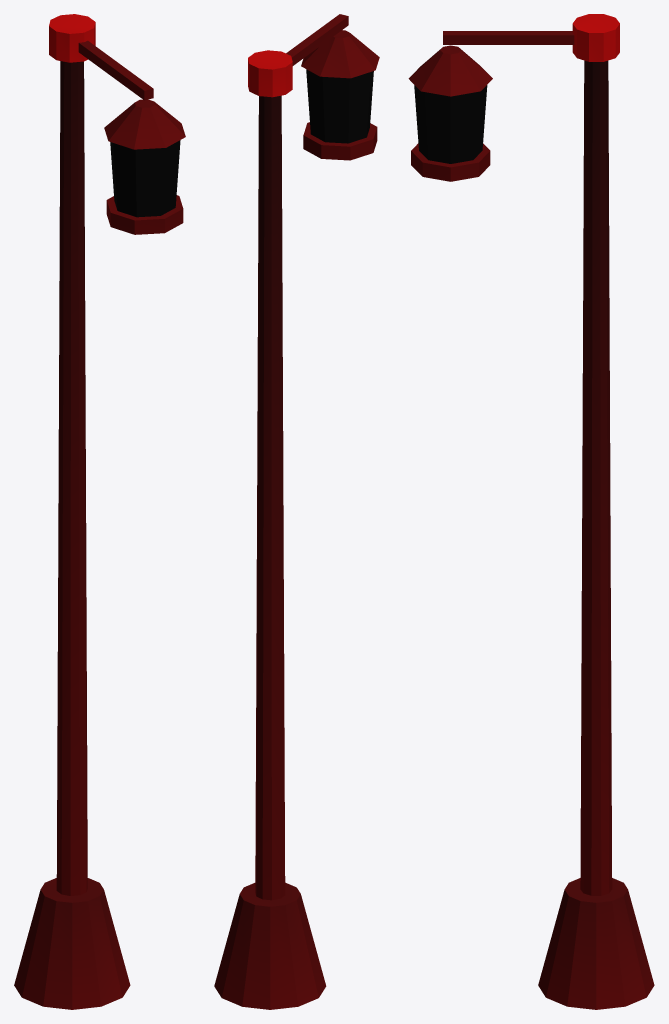
Rendered from lamp_post.glb.
The picture shows the model from 3 angles, left to right: view 1: azimuth 30°, elevation 25°; view 2: azimuth 150°, elevation 25°; view 3: azimuth 270°, elevation 25°; orthographic projection. The views are drawn at different scales.
Visible parts, largest first — view 1: lamp_post, LanternMesh; view 2: lamp_post, LanternMesh; view 3: lamp_post, LanternMesh.
Part boxes in pixels (<box>): lamp_post: <box>14,14,153,1009</box>; LanternMesh: <box>104,99,185,234</box>; lamp_post: <box>214,14,348,1009</box>; LanternMesh: <box>301,30,379,160</box>; lamp_post: <box>443,14,654,1009</box>; LanternMesh: <box>408,45,492,181</box>.
Size of what is drawn, in the model's own units: 0.44 by 4.01 by 0.93.
